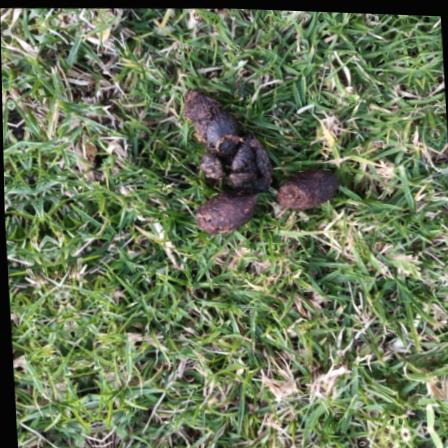dog-poop: (176, 78, 344, 237)
